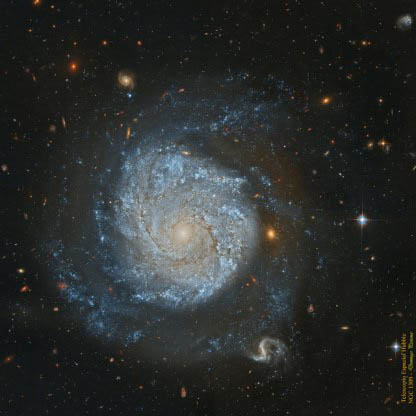NGC 1309: (36, 48, 320, 371)
